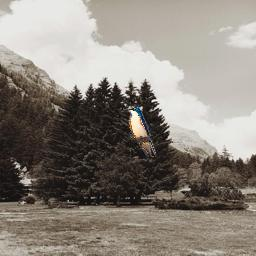Swallow: (128, 107, 156, 157)
